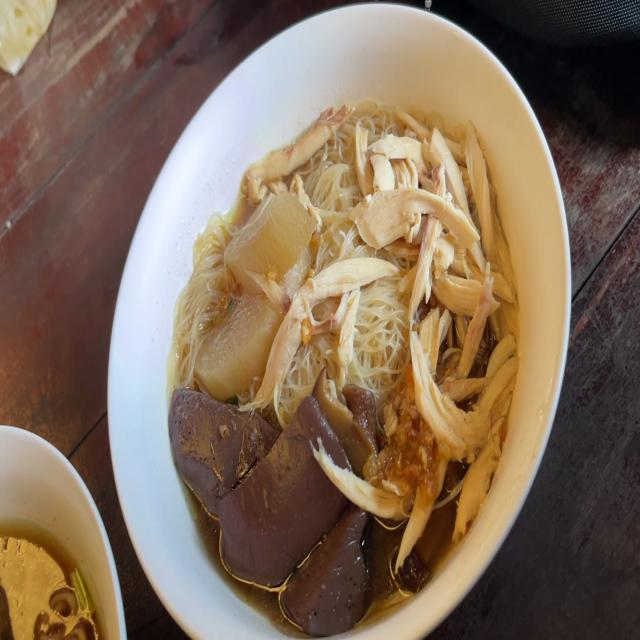noodle: (171, 406, 367, 618)
